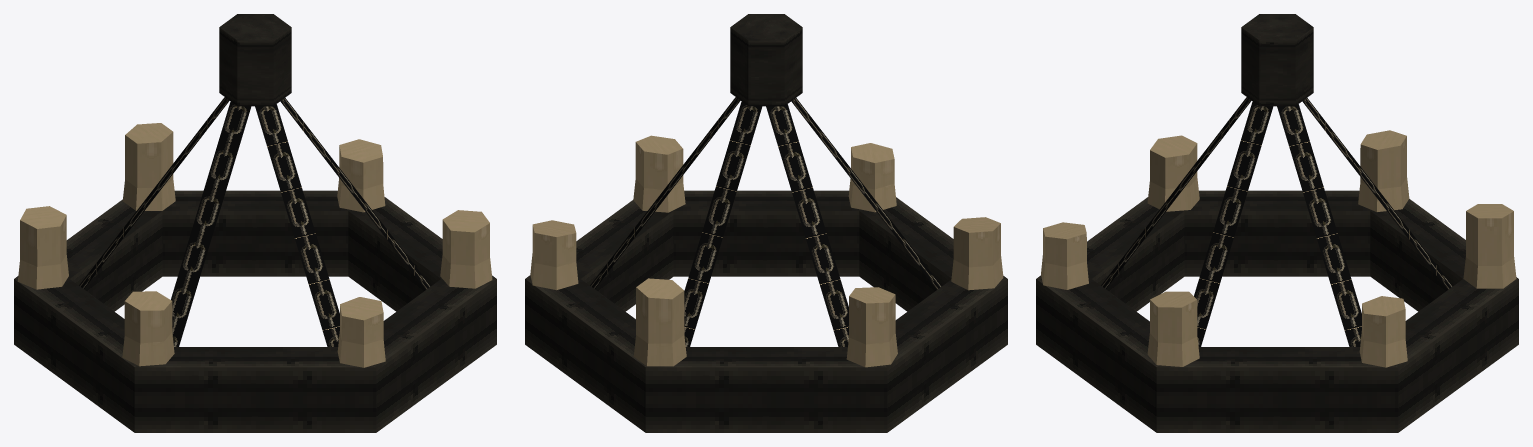
Rendered from chandelier.glb.
The picture shows the model from 3 angles, left to right: view 1: azimuth 30°, elevation 25°; view 2: azimuth 150°, elevation 25°; view 3: azimuth 270°, elevation 25°; orthographic projection.
Parts seen in each view (by area): view 1: Cylinder.025; view 2: Cylinder.025; view 3: Cylinder.025.
Part boxes in pixels (<box>): Cylinder.025: <box>14,14,496,432</box>; Cylinder.025: <box>525,14,1007,432</box>; Cylinder.025: <box>1036,14,1518,432</box>.
Size of the model in its own units: 17.36 by 14.5 by 20.
2 materials, 2 textured.
